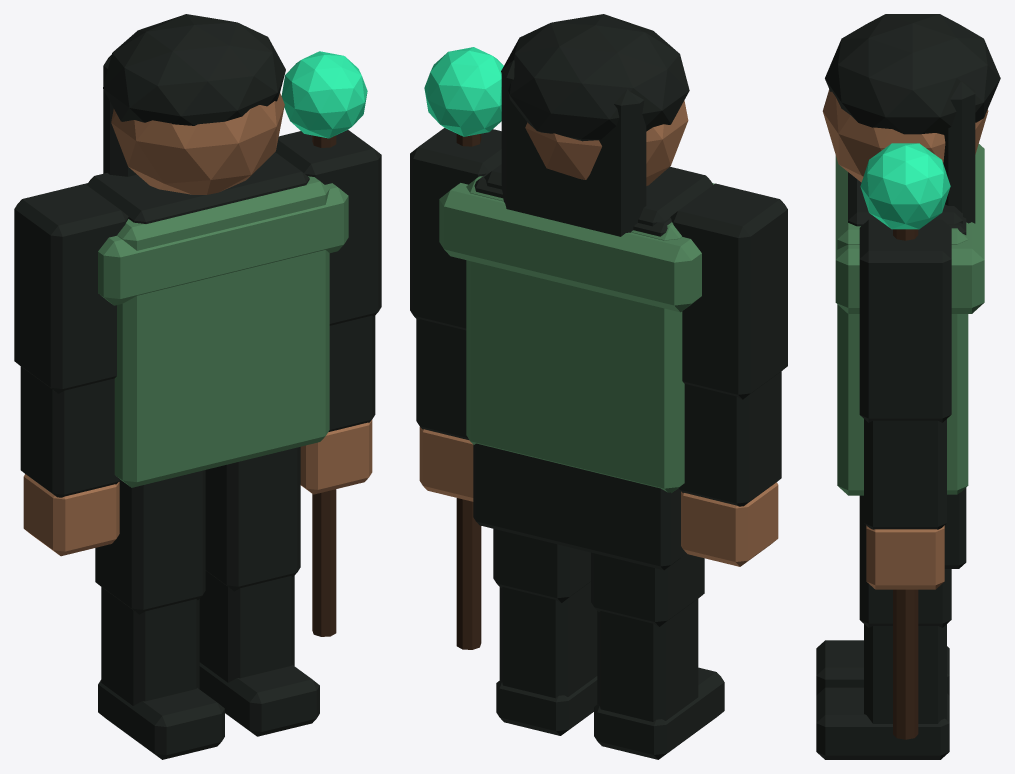
File: SerenPathkeeper.glb
3 renders of one model, left to right at view 1: azimuth 30°, elevation 25°; view 2: azimuth 150°, elevation 25°; view 3: azimuth 270°, elevation 25°, orthographic. The views are drawn at different scales.
Parts seen in each view (by area): view 1: UpperTorso_Tunic, LeftUpperArm, Head_HairCap, UpperTorso_Mantle, LeftUpperLeg, RightUpperLeg, Head, RightUpperArm, LeftLowerArm, LeftLowerLeg, RightLowerLeg, LeftFoot (+8 smaller); view 2: UpperTorso_Tunic, LeftUpperArm, UpperTorso_LongCoat, UpperTorso_Mantle, Head_HairCap, Head_HairBack, LeftLowerArm, RightUpperArm, LeftLowerLeg, RightLowerLeg, LeftUpperLeg, LeftHand (+9 smaller); view 3: RightUpperArm, Head_HairCap, UpperTorso_Tunic, RightLowerArm, RightFoot, RightHand_StaffLumen, RightLowerLeg, UpperTorso_Mantle, RightHand, RightHand_Staff, Head, Head_HairBack (+4 smaller).
Part boxes in pixels (box(x1,y1,x2,y2)): UpperTorso_Tunic: box(114, 176, 329, 487); LeftUpperArm: box(14, 184, 128, 393); Head_HairCap: box(103, 14, 285, 125); UpperTorso_Mantle: box(98, 183, 348, 305); LeftUpperLeg: box(95, 470, 205, 614); RightUpperLeg: box(205, 447, 300, 591); Head: box(111, 93, 284, 194); RightUpperArm: box(275, 130, 381, 325); LeftLowerArm: box(20, 366, 120, 497); LeftLowerLeg: box(101, 587, 199, 705); RightLowerLeg: box(199, 571, 294, 682); LeftFoot: box(98, 680, 224, 759); UpperTorso_Tunic: box(466, 176, 714, 493); LeftUpperArm: box(670, 183, 787, 399); UpperTorso_LongCoat: box(473, 173, 683, 570); UpperTorso_Mantle: box(439, 183, 701, 312); Head_HairCap: box(501, 14, 689, 141); Head_HairBack: box(501, 60, 646, 236); LeftLowerArm: box(679, 371, 781, 506); RightUpperArm: box(410, 128, 501, 330); LeftLowerLeg: box(597, 599, 698, 721); RightLowerLeg: box(499, 582, 597, 698); LeftUpperLeg: box(591, 550, 704, 626); LeftHand: box(681, 482, 778, 566); RightUpperArm: box(859, 219, 951, 422); Head_HairCap: box(825, 14, 1000, 134); UpperTorso_Tunic: box(837, 161, 968, 495); RightLowerArm: box(864, 419, 946, 529); RightFoot: box(816, 687, 949, 759); RightHand_StaffLumen: box(860, 143, 950, 229); RightLowerLeg: box(864, 624, 946, 723); UpperTorso_Mantle: box(835, 144, 984, 313); RightHand: box(866, 525, 944, 589); RightHand_Staff: box(893, 229, 918, 739); Head: box(822, 89, 988, 182); Head_HairBack: box(943, 81, 975, 223).
Size of the model in its own units: 4.32 by 8.55 by 2.04.
1 material, 1 textured.
